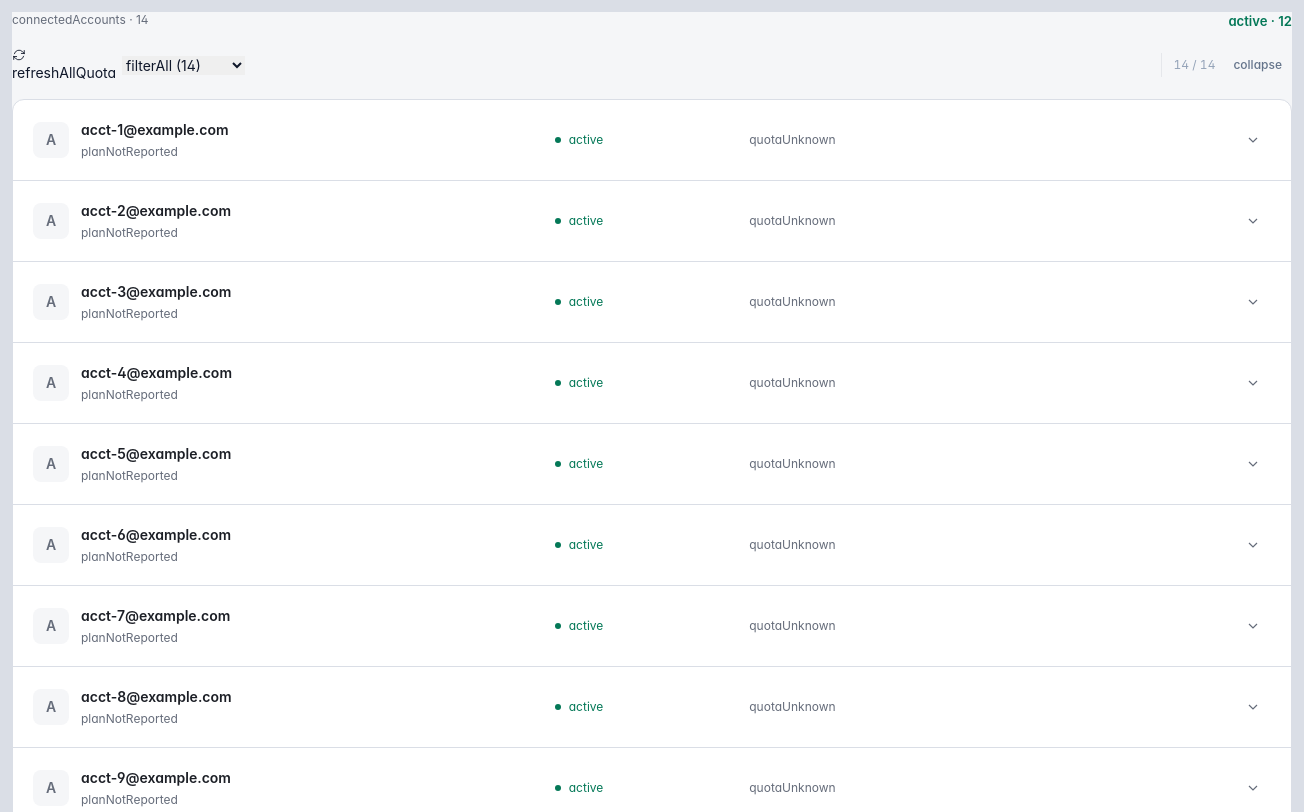
Test: AccountList › preserves expand-all preference when the filtered list still exceeds one page
Select "filterActive (12)" in the dropdown at [184, 65], box [122,56,245,75]
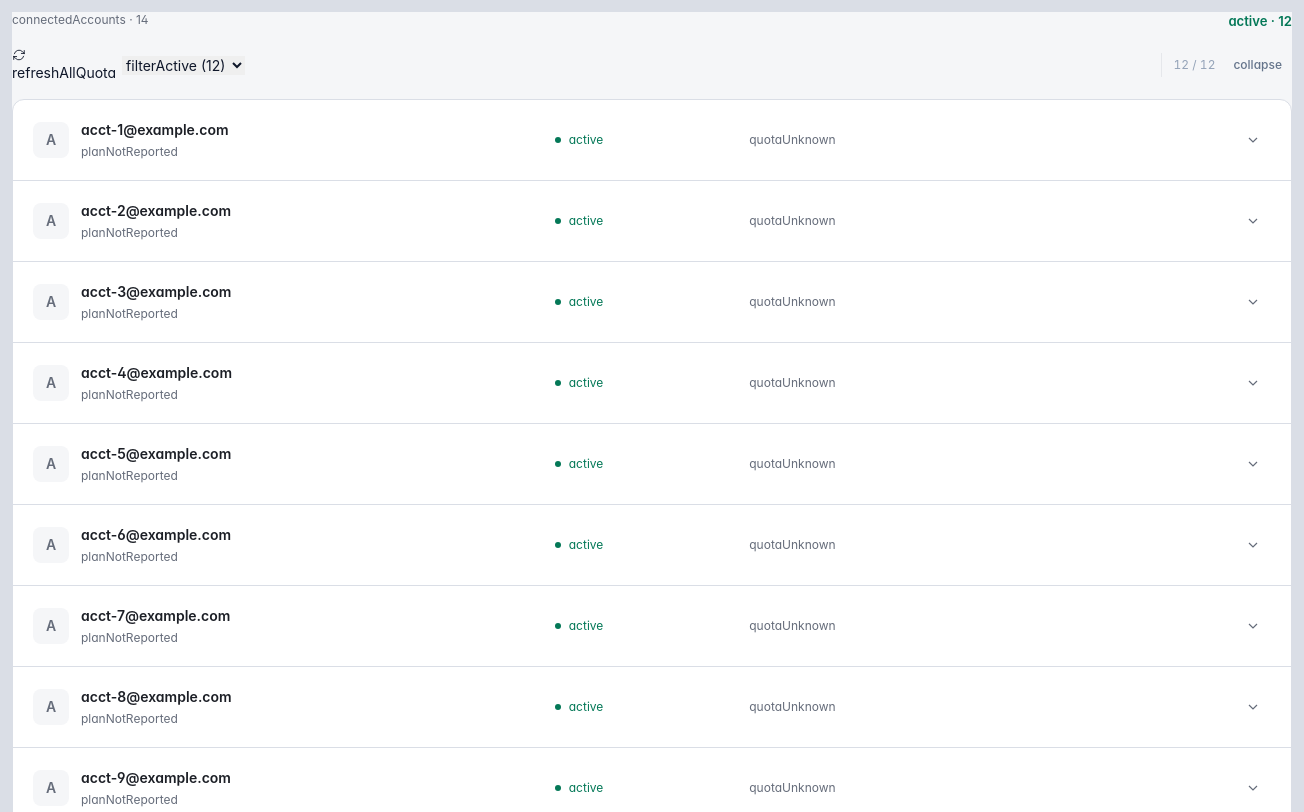
Expected: the button "collapse" is shown, [1223,53,1292,77]
Expected: the text "12 / 12" is shown, [1174,57,1215,73]
